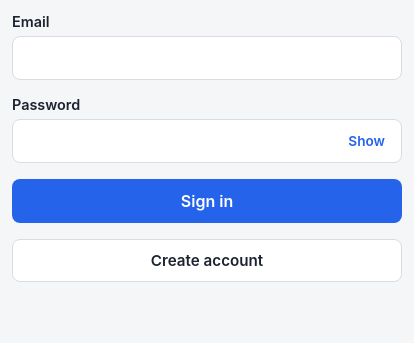
it: SignInForm › shows client validation errors without submitting
Click the button "Sign in".
click(207, 201)  # box [12,179,402,223]
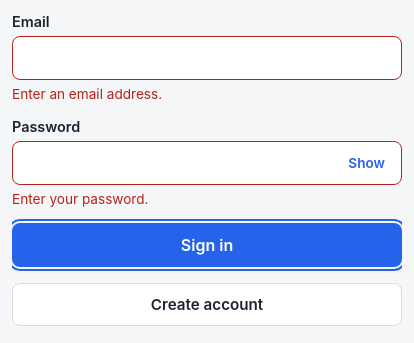
Result: the text "Enter an email address." is shown at [12,86,162,102]
Result: the text "Enter your password." is shown at [12,191,148,207]
